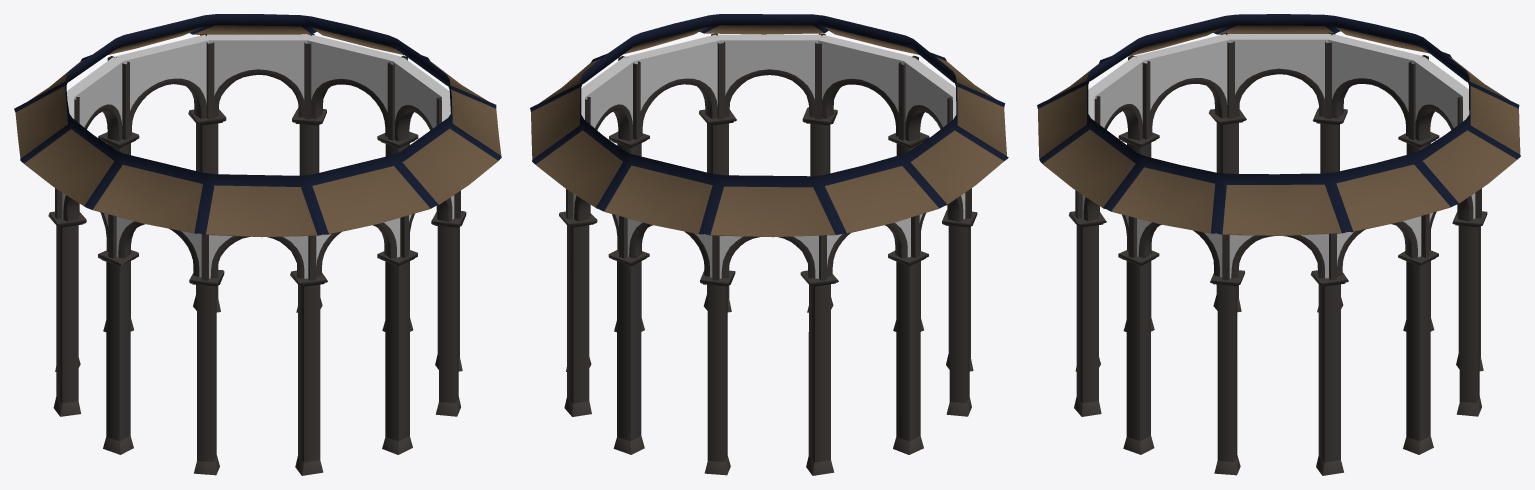
Rendered from DomoOptimizado.fbx.
The picture shows the model from 3 angles, left to right: view 1: azimuth 30°, elevation 25°; view 2: azimuth 150°, elevation 25°; view 3: azimuth 270°, elevation 25°; orthographic projection.
Parts seen in each view (by area): view 1: Bld_Dome; view 2: Bld_Dome; view 3: Bld_Dome.
Part boxes in pixels (bbox=[...]): Bld_Dome: bbox=[14, 14, 501, 475]; Bld_Dome: bbox=[530, 14, 1008, 475]; Bld_Dome: bbox=[1037, 14, 1520, 475].
Size of the model in its own units: 60643 by 41220 by 61272.
